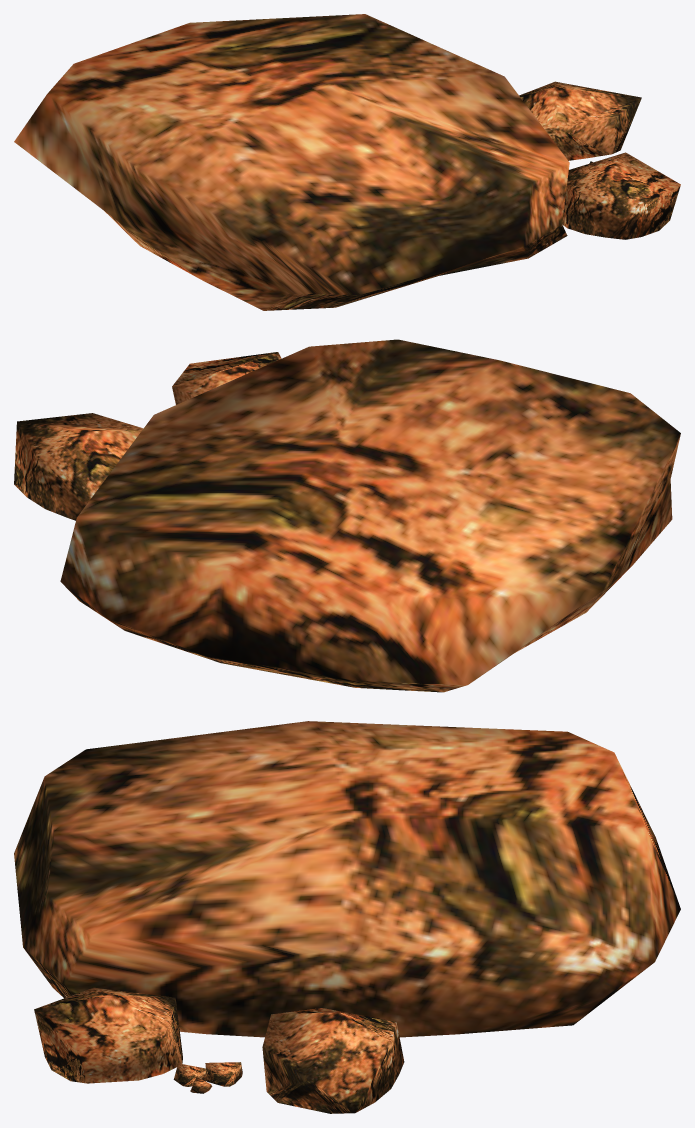
File: stoneGroup2_tex3.fbx
3 renders of one model, top to bottom at view 1: azimuth 30°, elevation 25°; view 2: azimuth 150°, elevation 25°; view 3: azimuth 270°, elevation 25°, orthographic. The views are drawn at different scales.
Parts seen in each view (by area): view 1: stoneGroup2_tex3Object; view 2: stoneGroup2_tex3Object; view 3: stoneGroup2_tex3Object.
Boxes of the visible parts, x1,y1,x2,y2 form: stoneGroup2_tex3Object: (14,14,680,310); stoneGroup2_tex3Object: (14,339,680,692); stoneGroup2_tex3Object: (14,721,680,1113).
Bounding box in the file's own units: 1.38 × 0.2764 × 1.28.
Materials: 1 (1 with a texture image).
